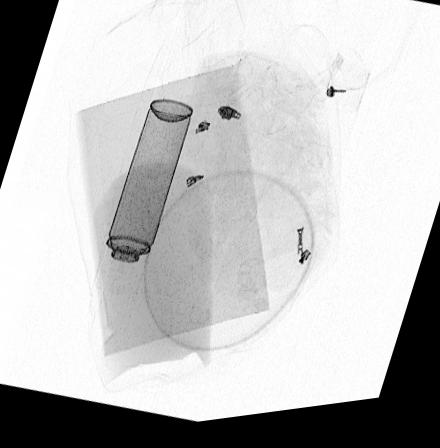Sprayer: (91, 101, 195, 301)
